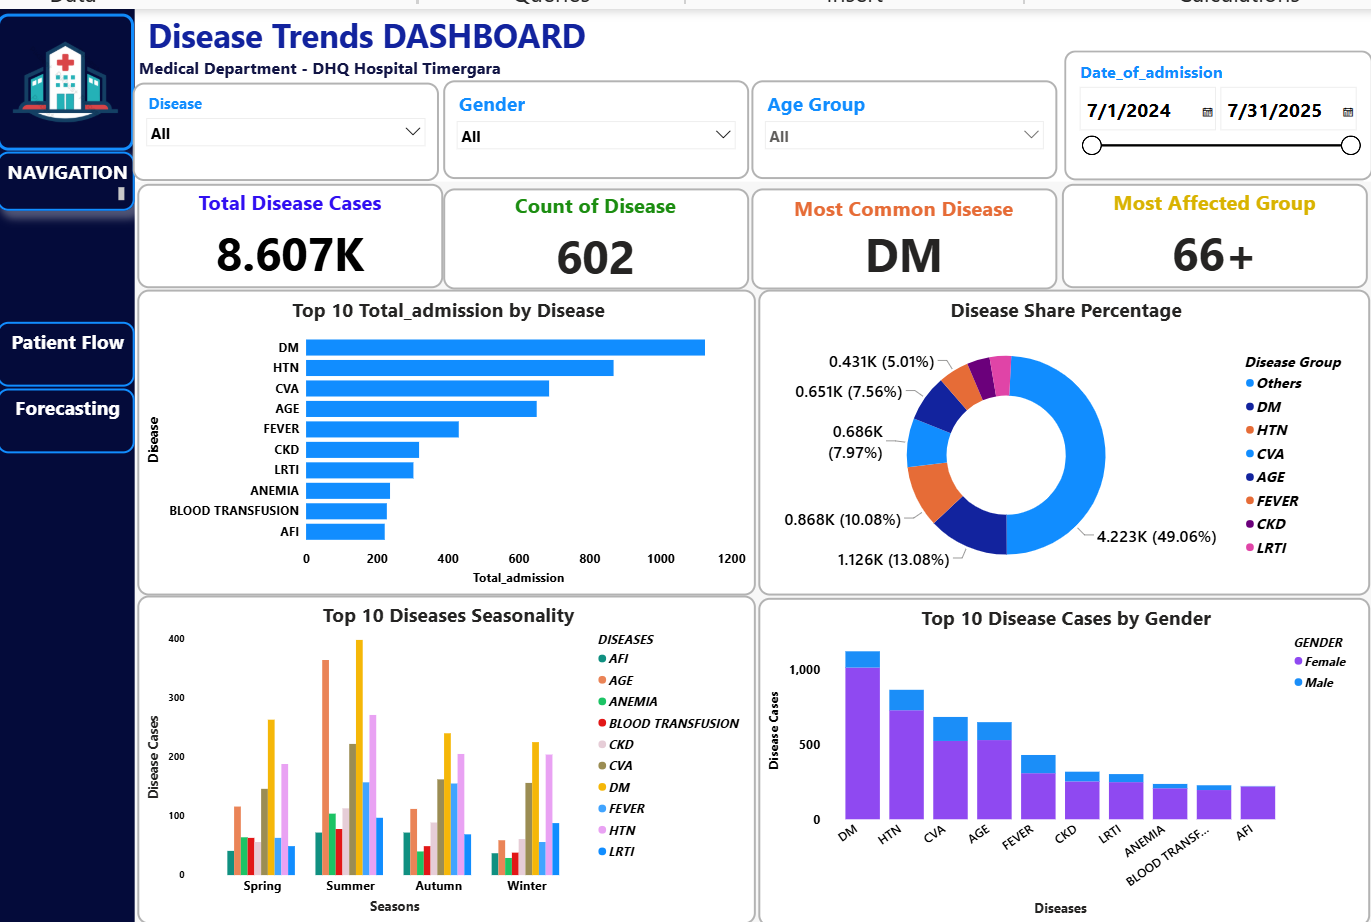

This screenshot's page, from the dashboard's own definition file:
{"tool":"powerbi","page":{"name":"Disease Trends ","canvas":[1800,1200],"ordinal":1},"visuals":[{"type":"textbox","box":[0,0,180,1200],"z":0},{"type":"image","box":[0,5.9,179,179],"z":1000},{"type":"actionButton","title":"Patient Flow","box":[0,407.5,180,85],"z":2000},{"type":"textbox","title":"NAVIGATION","box":[0,187.5,180,77.5],"z":3000},{"type":"actionButton","title":"Forecasting","box":[0,495,180,85],"z":4000},{"type":"cardVisual","fields":{"Data":["CountNonNull(Disease Trend.Patient_ID)"]},"box":[183.3,230,400,136.7],"z":5000},{"type":"cardVisual","fields":{"Data":["Count(Disease Trend.Disease)"]},"box":[583.4,234.5,399.9,132.3],"z":6000},{"type":"cardVisual","fields":{"Data":["Disease Trend.Most Common Disease"]},"box":[986.3,234.5,399.9,132.3],"z":7000},{"type":"slicer","fields":{"Values":["Disease Trend.Date_of_admission"]},"box":[1398.3,6,402.9,96.2],"z":8000},{"type":"textbox","box":[180.4,0,1620.8,225.5],"z":9000},{"type":"slicer","fields":{"Values":["Disease Trend.Date_of_admission"]},"box":[1396.7,53.3,403.3,170],"z":10000},{"type":"slicer","fields":{"Values":["Disease Trend.Disease"]},"box":[178.2,96,400.3,128.9],"z":11000},{"type":"slicer","fields":{"Values":["Disease Trend.Gender"]},"box":[583.4,93.2,399.9,129.3],"z":12000},{"type":"slicer","fields":{"Values":["Disease Trend.Age Group"]},"box":[986.3,93.2,399.9,129.3],"z":13000},{"type":"cardVisual","fields":{"Data":["Disease Trend.Most Affected Group"]},"box":[1393.3,230,400,136.7],"z":14000},{"type":"clusteredBarChart","title":"Top 10 Total_admission by Disease","fields":{"Category":["Disease Trend.Disease"],"Y":["Disease Trend.Total_admissions_DT"]},"box":[183.4,366.9,808.9,399.9],"z":15000},{"type":"donutChart","title":"Disease Share Percentage","fields":{"Y":["CountNonNull(Disease Trend.Patient_ID)"],"Category":["Disease Trend.Disease Group"]},"box":[995.3,366.9,799.9,399.9],"z":16000},{"type":"clusteredColumnChart","title":"Top 10 Diseases Seasonality","fields":{"Series":["Disease Trend.Disease"],"Category":["Disease Trend.Season"],"Y":["CountNonNull(Disease Trend.Patient_ID)"]},"box":[183.4,766.8,808.9,430],"z":17000},{"type":"columnChart","title":"Top 10 Disease Cases by Gender","fields":{"Series":["Disease Trend.Gender"],"Category":["Disease Trend.Disease"],"Y":["CountNonNull(Disease Trend.Patient_ID)"]},"box":[996.7,770,800,430],"z":18000}]}

Visuals, with their boxes on the page's 1800x1200 design canvas (x1, y1, x2, y2). These are canvas units, not pixel positions in the 1371x922 screenshot, which may show the page scaled, cropped or inside an application window:
textbox: box=[0, 0, 180, 1200]
image: box=[0, 6, 179, 185]
"Patient Flow" actionButton: box=[0, 408, 180, 492]
"NAVIGATION" textbox: box=[0, 188, 180, 265]
"Forecasting" actionButton: box=[0, 495, 180, 580]
cardVisual - CountNonNull(Disease Trend.Patient_ID): box=[183, 230, 583, 367]
cardVisual - Count(Disease Trend.Disease): box=[583, 234, 983, 367]
cardVisual - Disease Trend.Most Common Disease: box=[986, 234, 1386, 367]
slicer - Disease Trend.Date_of_admission: box=[1398, 6, 1801, 102]
textbox: box=[180, 0, 1801, 226]
slicer - Disease Trend.Date_of_admission: box=[1397, 53, 1800, 223]
slicer - Disease Trend.Disease: box=[178, 96, 578, 225]
slicer - Disease Trend.Gender: box=[583, 93, 983, 222]
slicer - Disease Trend.Age Group: box=[986, 93, 1386, 222]
cardVisual - Disease Trend.Most Affected Group: box=[1393, 230, 1793, 367]
"Top 10 Total_admission by Disease" clusteredBarChart: box=[183, 367, 992, 767]
"Disease Share Percentage" donutChart: box=[995, 367, 1795, 767]
"Top 10 Diseases Seasonality" clusteredColumnChart: box=[183, 767, 992, 1197]
"Top 10 Disease Cases by Gender" columnChart: box=[997, 770, 1797, 1200]
